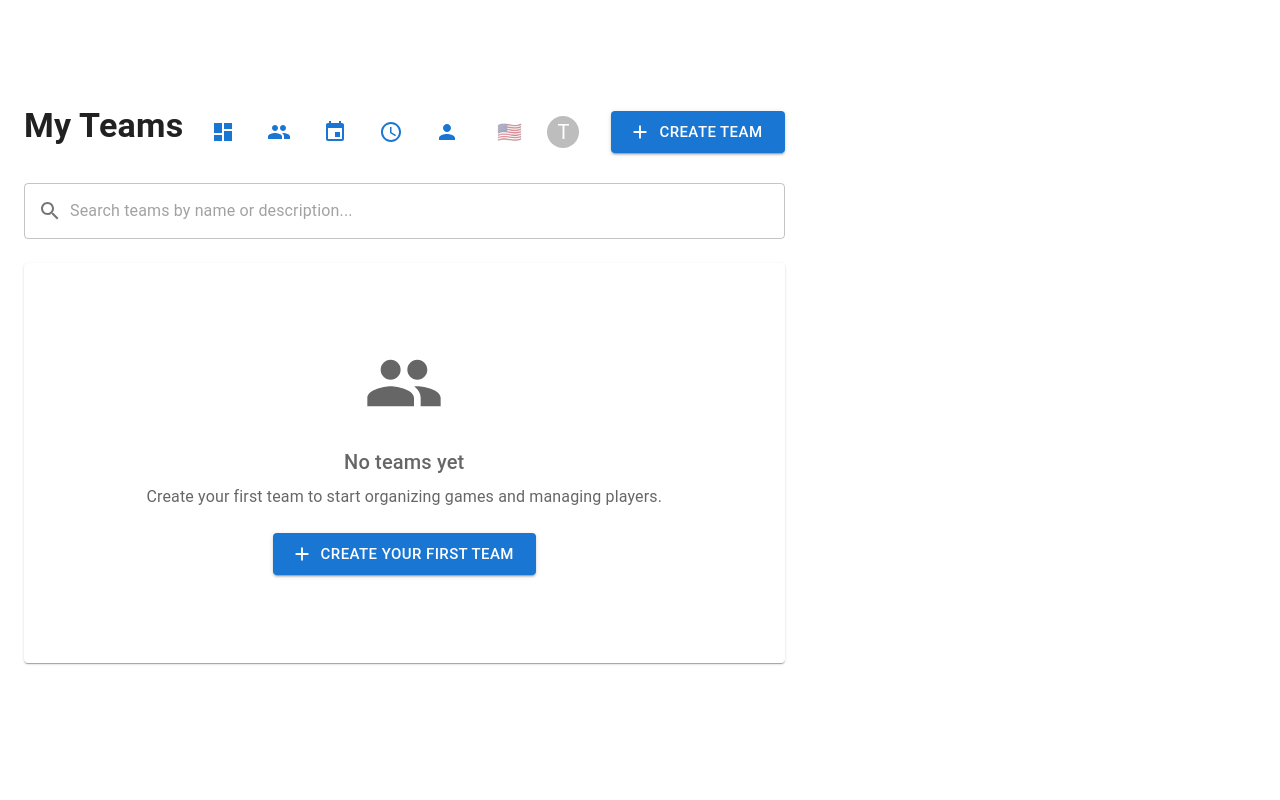
Test: TeamsPage › opens create team dialog when create button is clicked
Step 1. Click the button "Create Your First Team" → (404, 554), box [273,533,536,575]
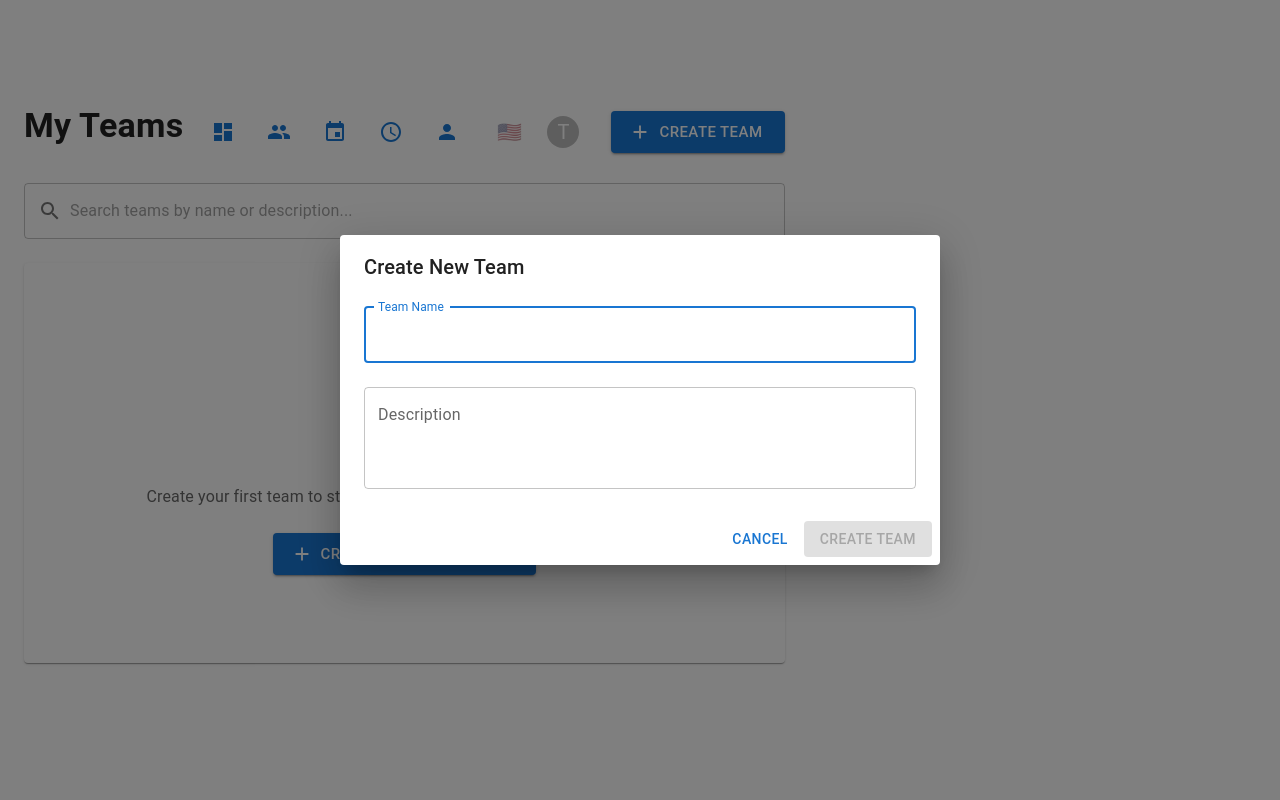
Expected: the heading "Create New Team" is shown, [364,255,524,279]
